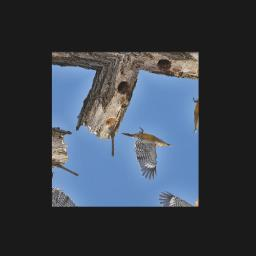Woodpecker: (116, 114, 185, 184)
